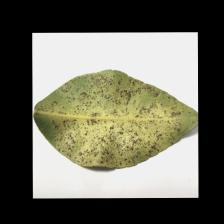canker: (62, 78, 160, 154)
